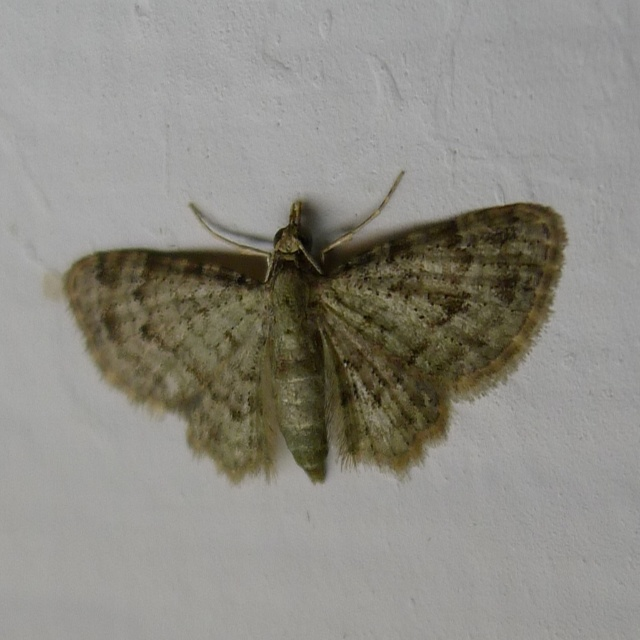Butterfly: (59, 167, 569, 495)
